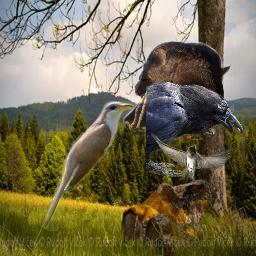Crow: (122, 40, 234, 140), (146, 81, 243, 177)
Cuckoo: (40, 101, 134, 231)
Swallow: (151, 133, 232, 181)
